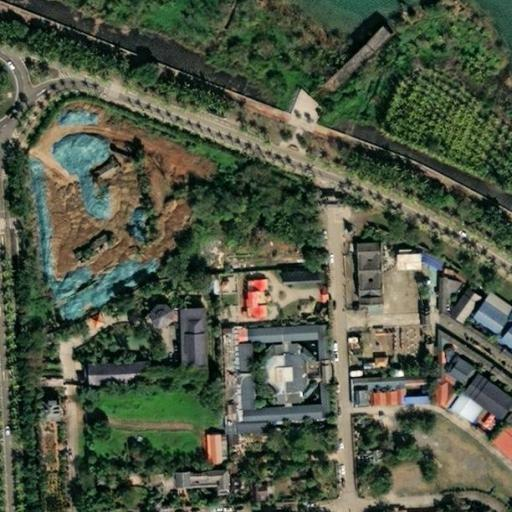building: (230, 323, 322, 420), (428, 274, 512, 376), (429, 322, 512, 399), (318, 17, 395, 94), (33, 395, 65, 511), (453, 366, 507, 416), (212, 330, 235, 421), (170, 303, 199, 370), (83, 357, 143, 384), (479, 418, 512, 464), (349, 241, 374, 301), (435, 348, 470, 383), (345, 374, 438, 386), (167, 464, 221, 483), (464, 297, 497, 328), (442, 285, 473, 317), (442, 391, 474, 422), (238, 276, 259, 317), (79, 306, 107, 333), (475, 290, 504, 314), (493, 317, 512, 348), (411, 249, 436, 271), (495, 399, 512, 431), (275, 269, 315, 282), (142, 300, 164, 323), (227, 418, 262, 432), (292, 432, 316, 452), (197, 433, 212, 461), (387, 249, 412, 265), (432, 390, 450, 409), (427, 334, 435, 374), (344, 386, 360, 405), (395, 393, 424, 403), (143, 362, 172, 371), (244, 479, 260, 495), (413, 305, 423, 329), (427, 383, 438, 402), (364, 389, 377, 404), (376, 388, 389, 403), (37, 355, 49, 371), (438, 373, 451, 386), (314, 284, 324, 297), (388, 388, 396, 404), (365, 357, 379, 365), (501, 306, 512, 316), (142, 476, 153, 485), (271, 474, 277, 482), (146, 485, 152, 491)
